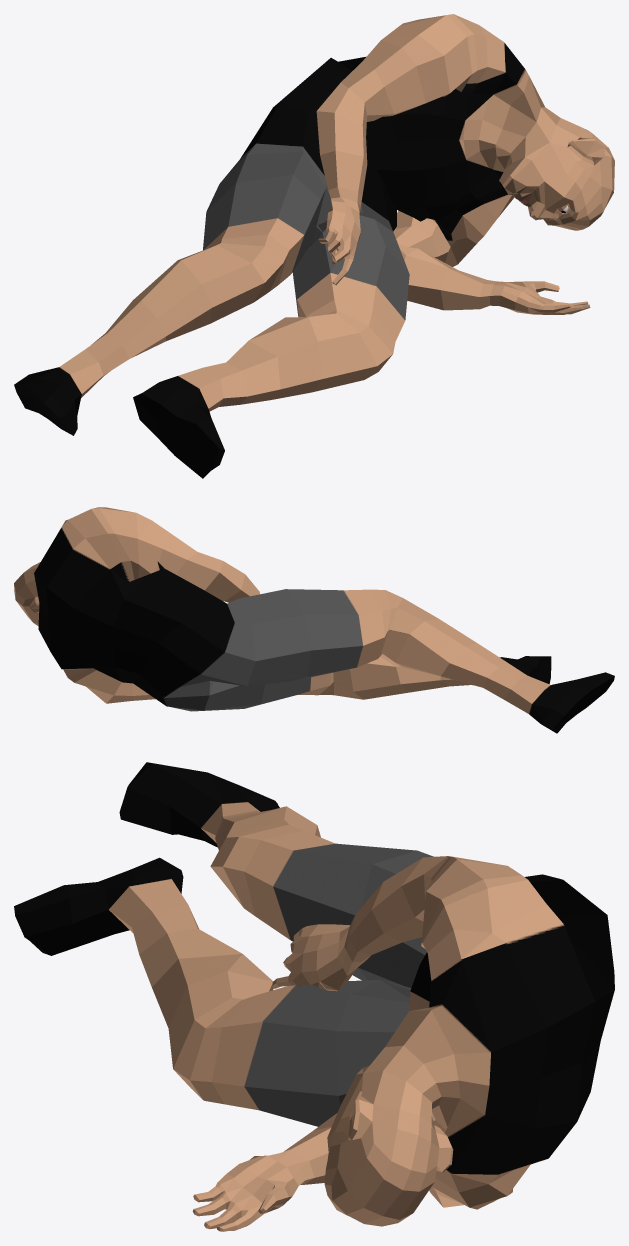
File: PlayerDead(72).obj
3 views of the same model, one above another, from view 1: azimuth 30°, elevation 25°; view 2: azimuth 150°, elevation 25°; view 3: azimuth 270°, elevation 25° (orthographic). The views are drawn at different scales.
Parts seen in each view (by area): view 1: Plane002; view 2: Plane002; view 3: Plane002.
Part boxes in pixels (x1,y1,x2,y2): Plane002: [14, 14, 614, 478]; Plane002: [14, 507, 614, 733]; Plane002: [14, 762, 614, 1231].
Size of the model in its own units: 1569 by 568 by 894.
